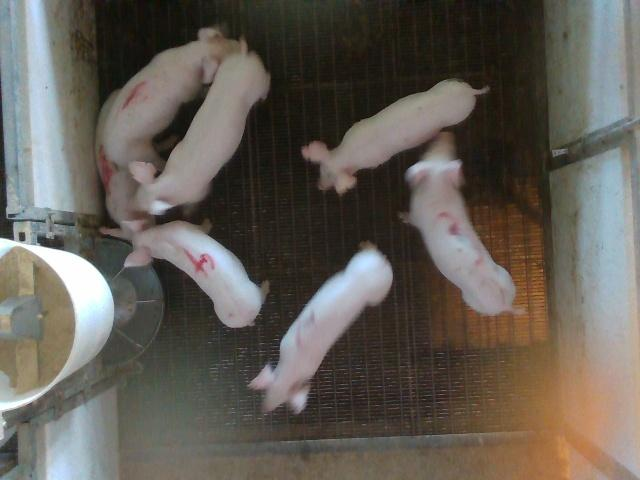pig-1: (101, 29, 240, 166)
pig-2: (249, 244, 391, 414)
pig-3: (406, 132, 525, 315)
pig-4: (121, 220, 269, 327)
pig-5: (96, 90, 150, 224)
